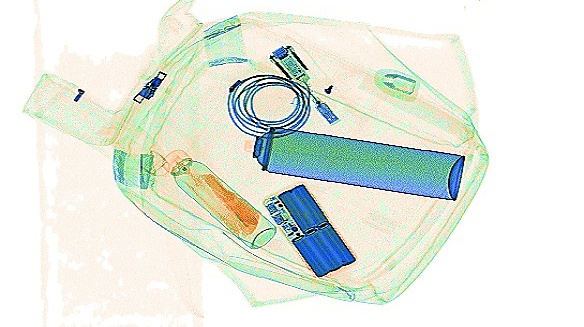powerbank: (260, 178, 356, 278)
pressure: (242, 125, 465, 199), (159, 146, 277, 250)
